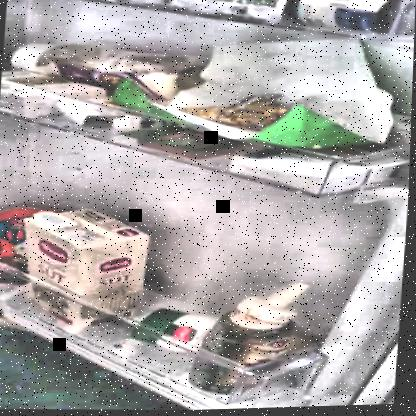milk: (29, 207, 154, 306)
